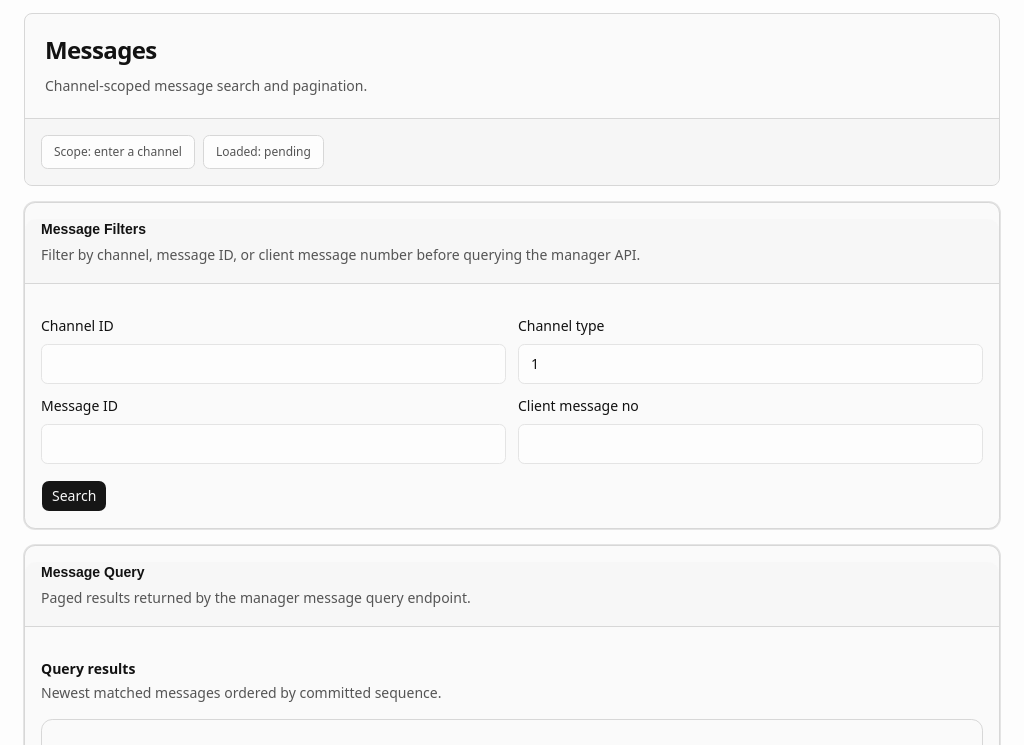
Test: loads the next page with the same filters
Type "room-1" into the field labelled "Channel ID".
click(274, 364); type("room-1")  # box [41,344,506,384]
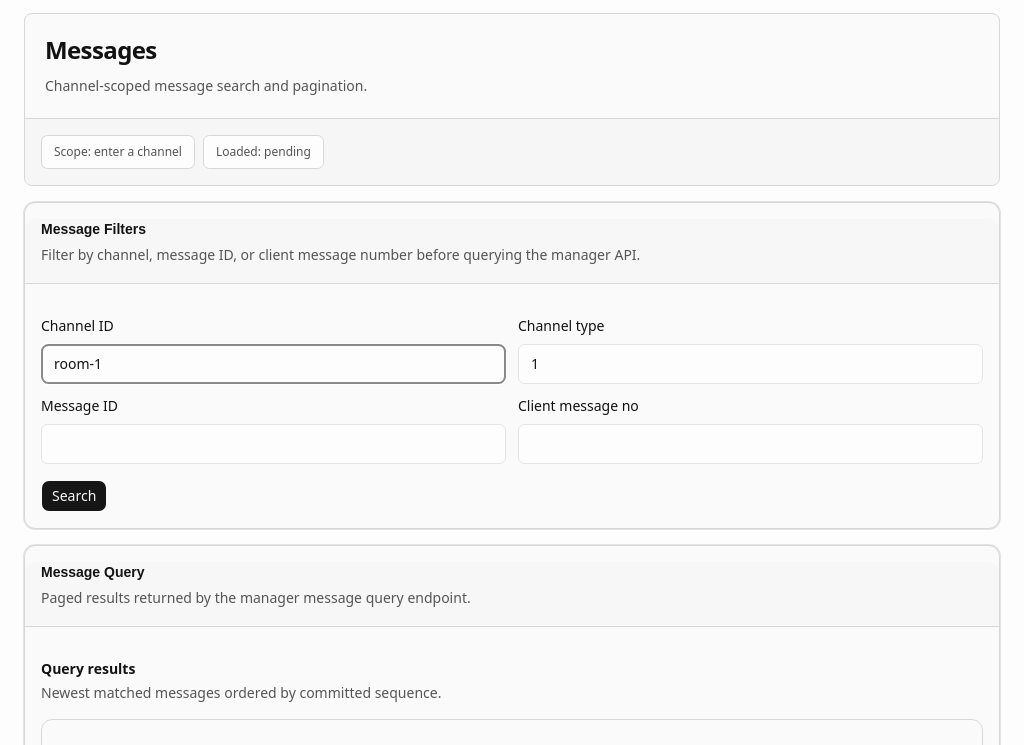
Replace the text in the number field labelled "Channel type" with "2" at x=750, y=364, box [518,344,983,384]
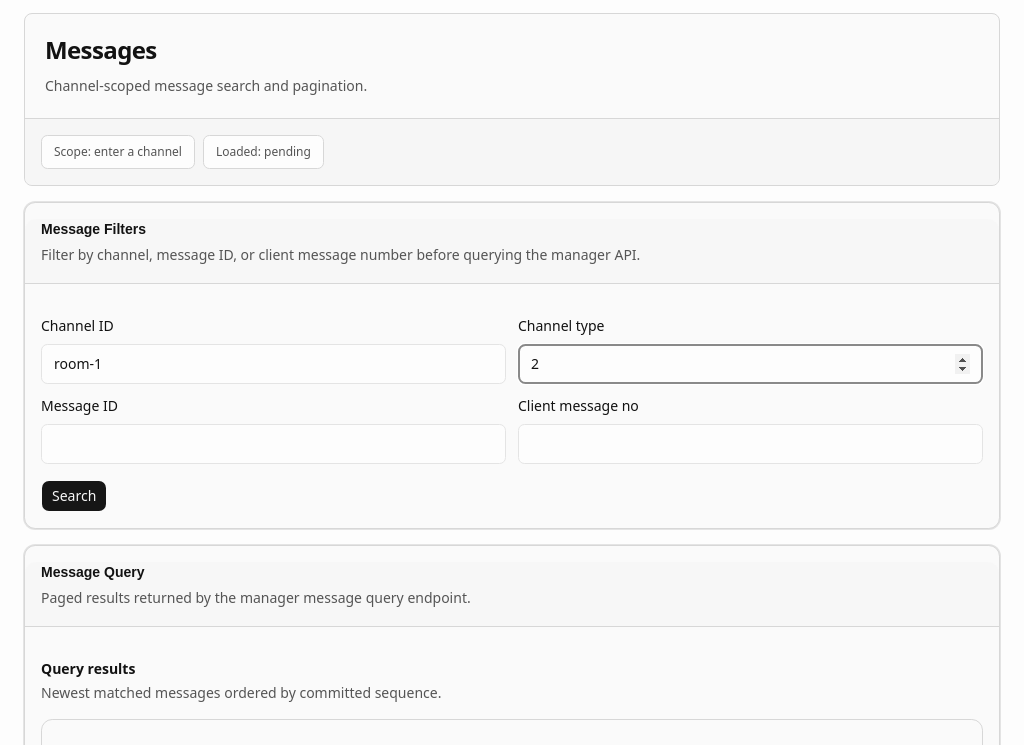
Type "dup-1" into the field labelled "Client message no".
click(750, 444); type("dup-1")  # box [518,424,983,464]
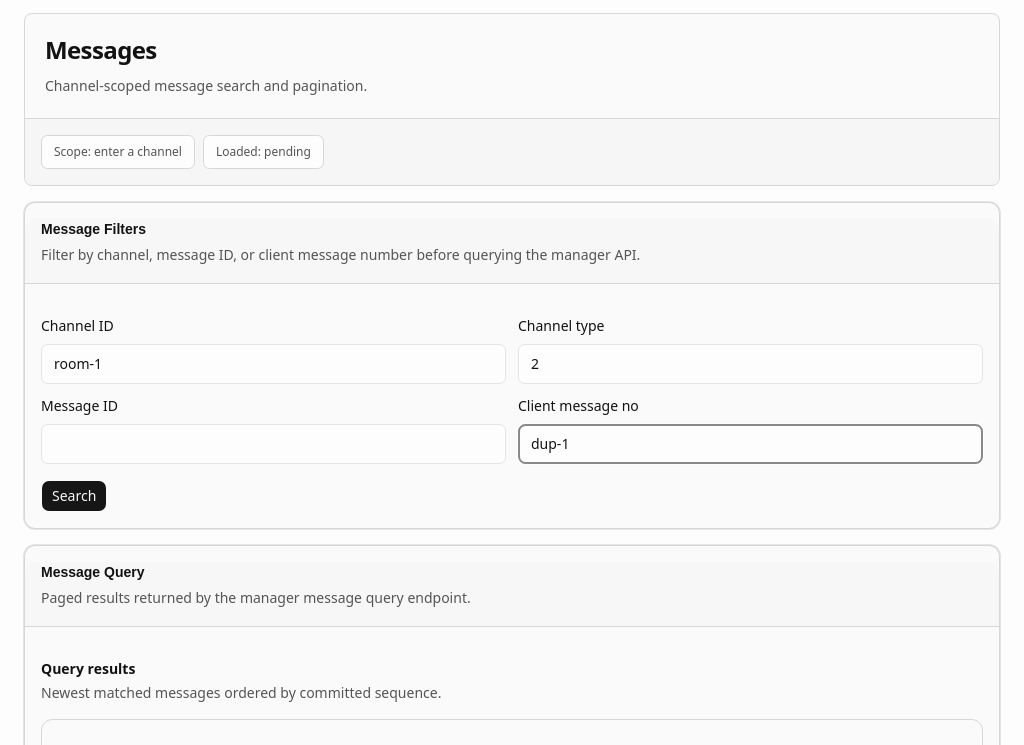
Click the button "Search".
click(74, 496)  # box [41,480,107,512]
(page scrolled)
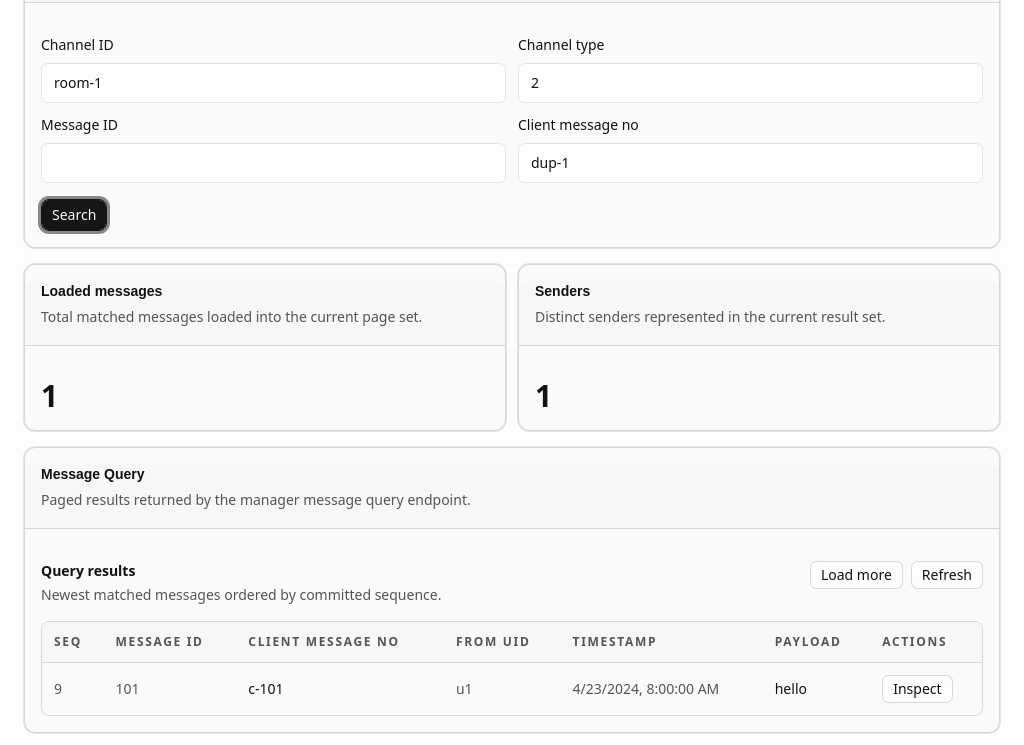
Expected: the text "c-101" is shown, [236,662,444,715]
Click the button "Load more".
click(856, 575)  # box [810,561,903,589]
(page scrolled)
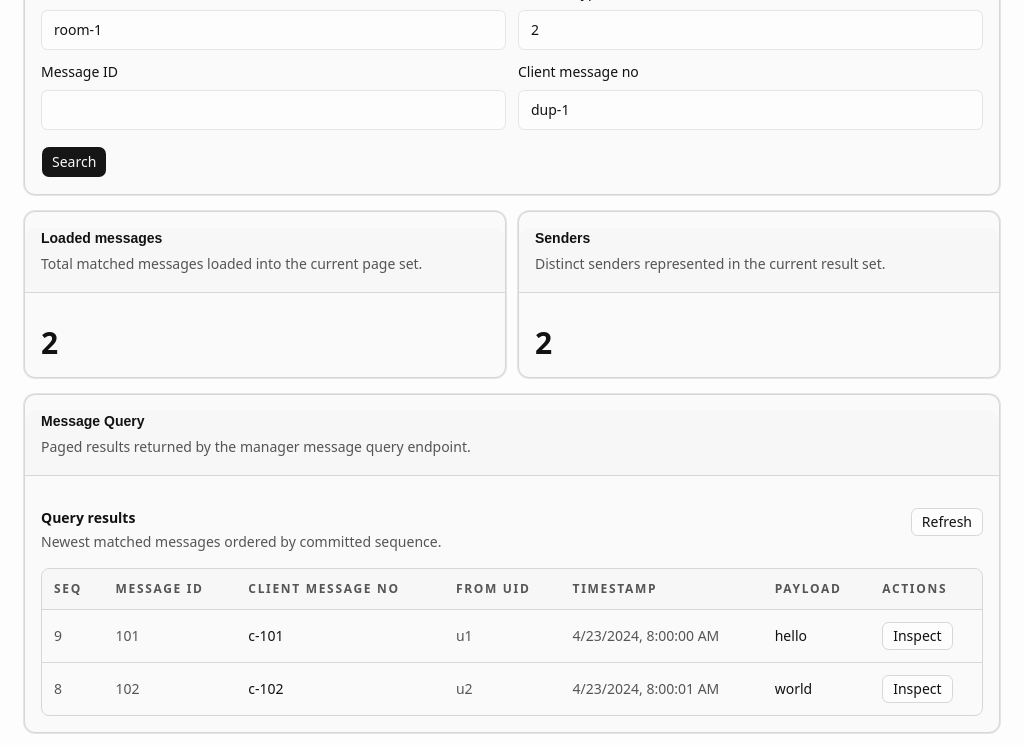
Expected: the text "c-102" is shown, [236,662,444,715]
